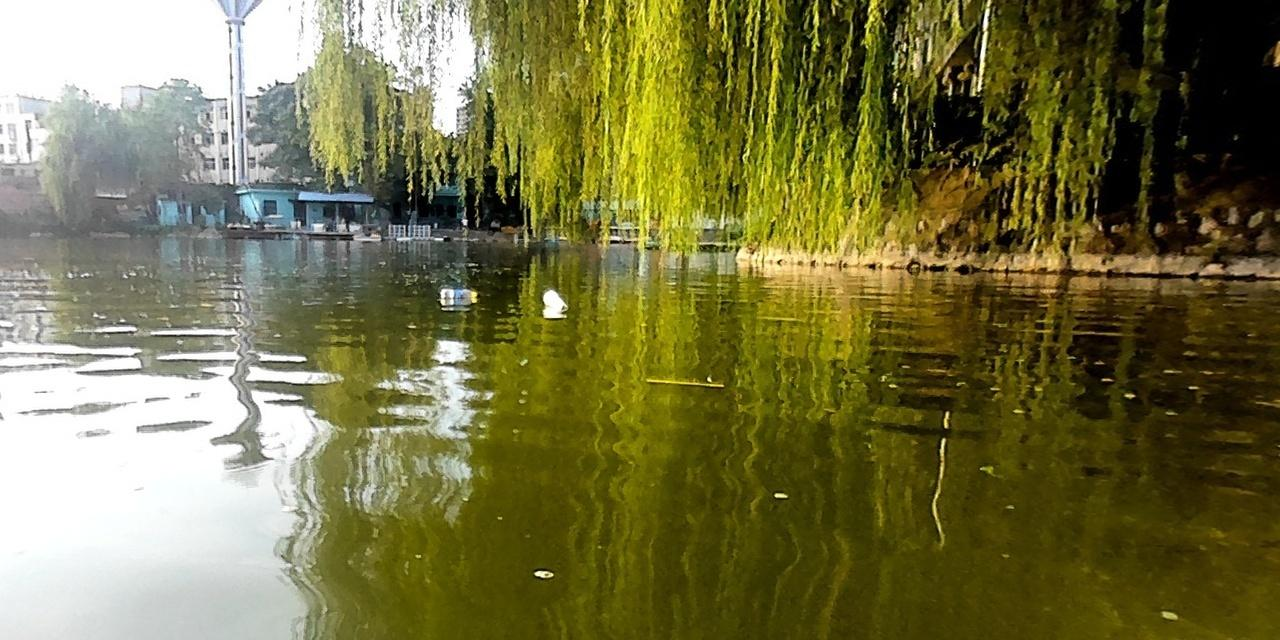bottle: (541, 284, 571, 312), (436, 286, 480, 303)
